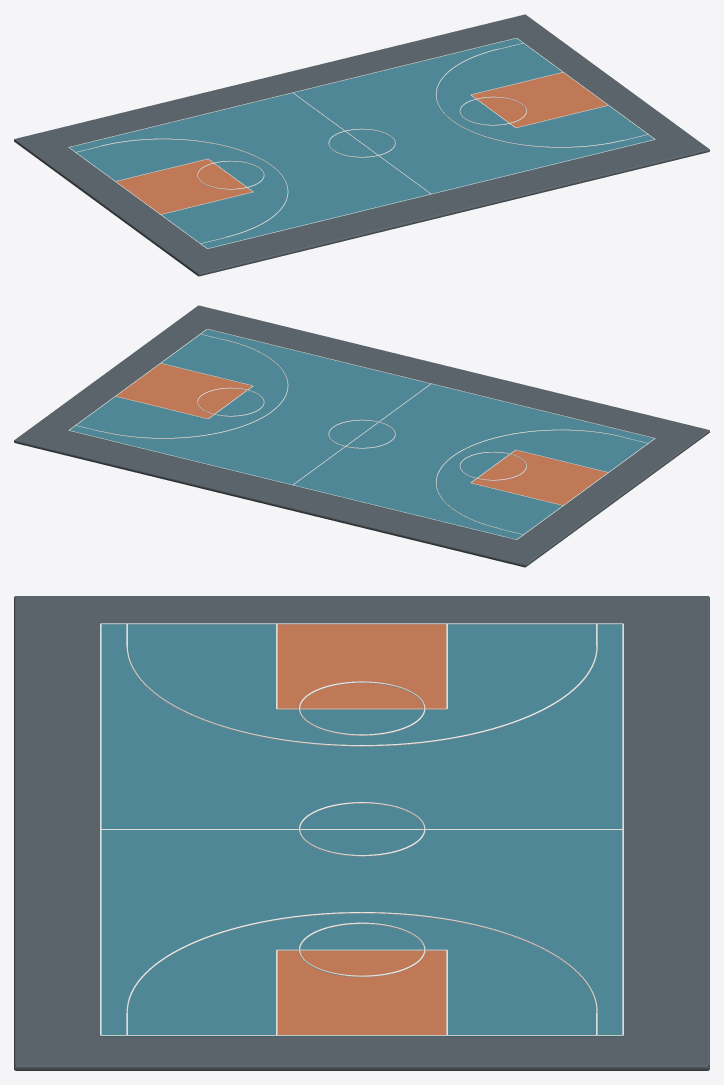
File: basketball-club-and-street-courts-marked-court-slab-ee70ffe3__28545.glb
3 views of the same model, one above another, from view 1: azimuth 30°, elevation 25°; view 2: azimuth 150°, elevation 25°; view 3: azimuth 270°, elevation 25° (orthographic). The views are drawn at different scales.
Visible parts, largest first — view 1: marked-court-slab; view 2: marked-court-slab; view 3: marked-court-slab.
Boxes of the visible parts, x1=… form: marked-court-slab: x1=14, y1=14, x2=709, y2=276; marked-court-slab: x1=14, y1=305, x2=709, y2=567; marked-court-slab: x1=14, y1=596, x2=709, y2=1070.
Size of the model in its own units: 32 by 0.2455 by 20.
